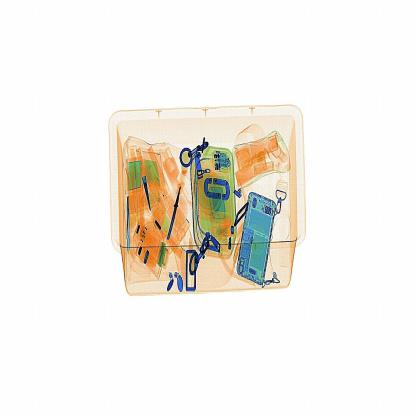gun: (166, 172, 186, 242)
